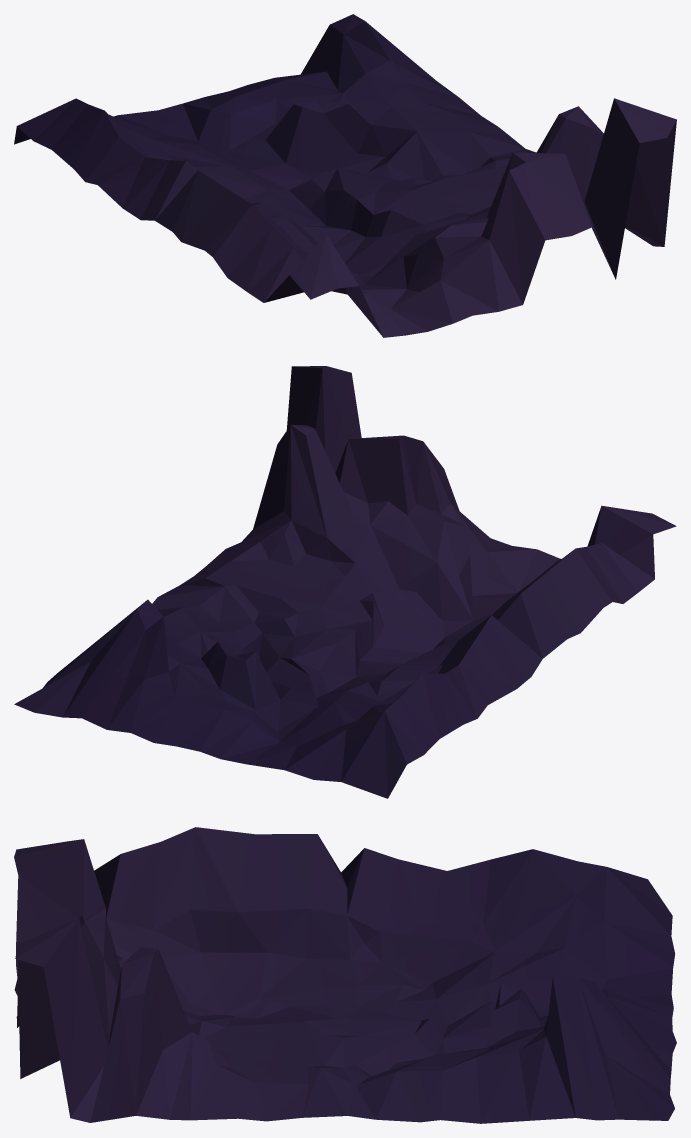
File: CaveFloor.fbx
3 renders of one model, top to bottom at view 1: azimuth 30°, elevation 25°; view 2: azimuth 150°, elevation 25°; view 3: azimuth 270°, elevation 25°, orthographic. The views are drawn at different scales.
Visible parts, largest first — view 1: Plane.049; view 2: Plane.049; view 3: Plane.049.
Boxes of the visible parts, bbox=[...] form: Plane.049: bbox=[14, 14, 676, 337]; Plane.049: bbox=[14, 366, 676, 798]; Plane.049: bbox=[14, 827, 676, 1123].
Bounding box in the file's own units: 2779 × 1263 × 3622.
